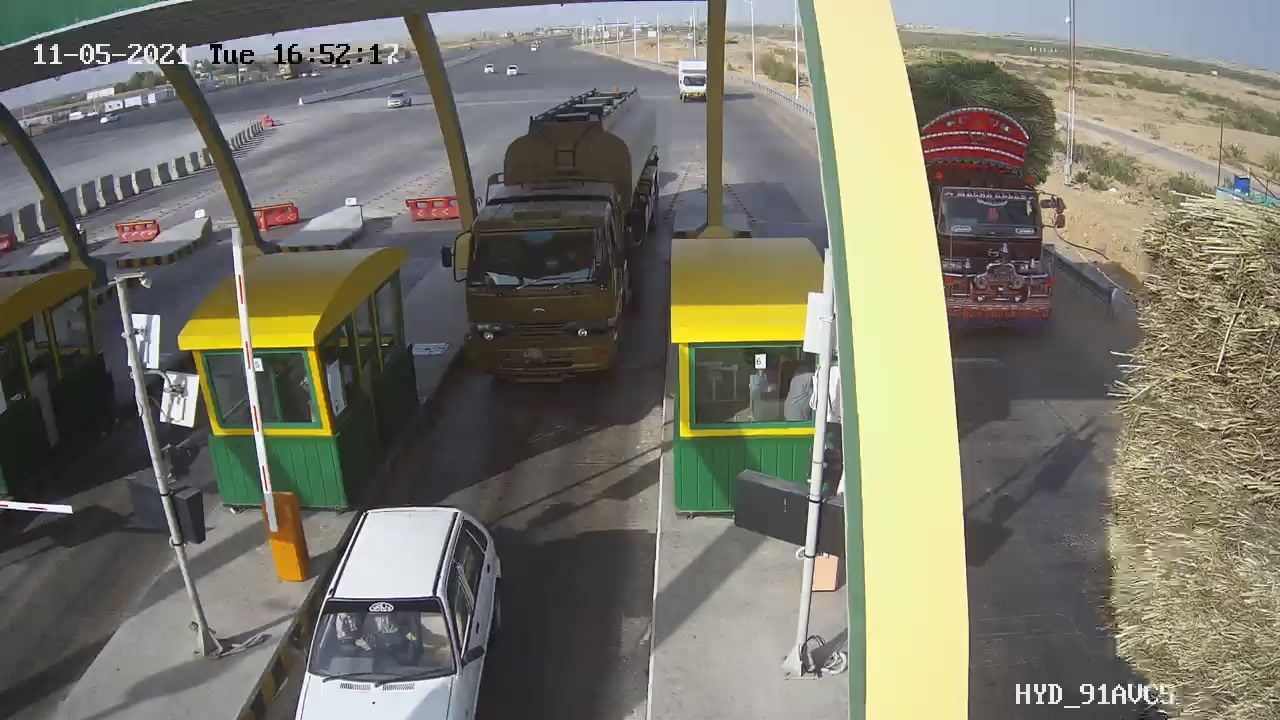F6: (446, 72, 678, 394)
